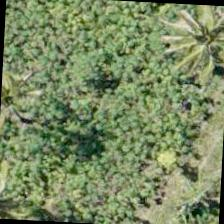Kelapa_Sawit: (159, 2, 223, 82), (0, 51, 51, 144)
